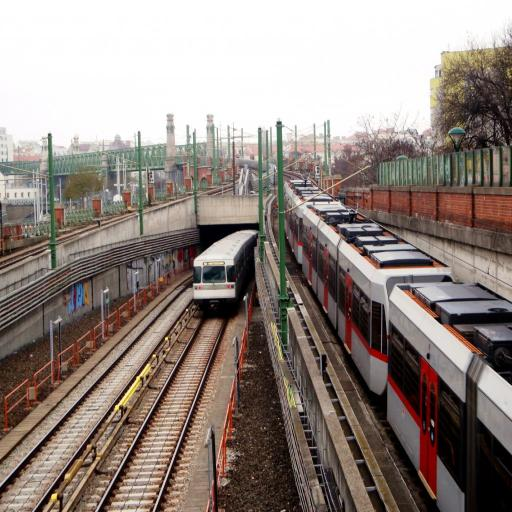Silberpfeil: (192, 229, 260, 304)
